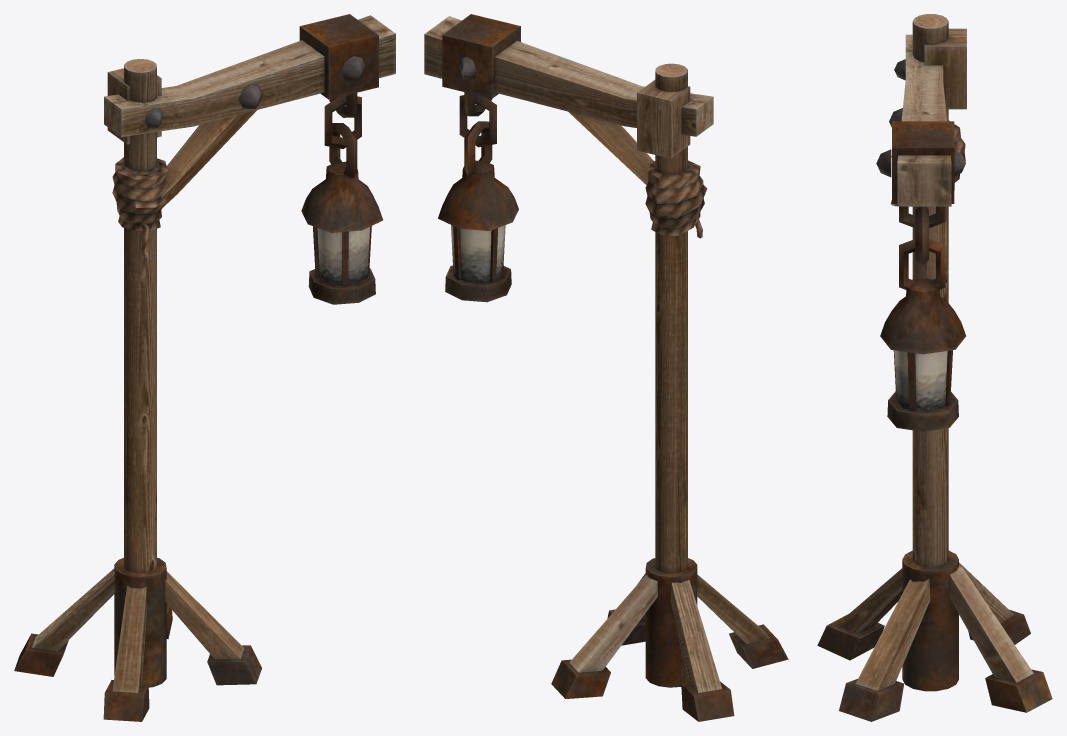
Rendered from Lamp_Street_1.glb.
3 renders of one model, left to right at view 1: azimuth 30°, elevation 25°; view 2: azimuth 150°, elevation 25°; view 3: azimuth 270°, elevation 25°, orthographic. The views are drawn at different scales.
Visible parts, largest first — view 1: Lamp_Street_1; view 2: Lamp_Street_1; view 3: Lamp_Street_1.
Part boxes in pixels (bbox=[...]): Lamp_Street_1: bbox=[14, 14, 395, 721]; Lamp_Street_1: bbox=[424, 14, 788, 721]; Lamp_Street_1: bbox=[817, 14, 1052, 721].
Size of the model in its own units: 1.6 by 2.8 by 0.9076.
Materials: 1 (1 with a texture image).
